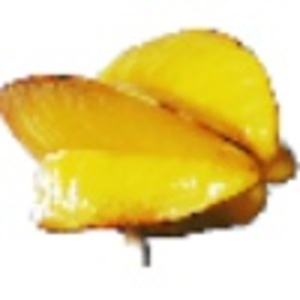carambola: (1, 25, 300, 265)
